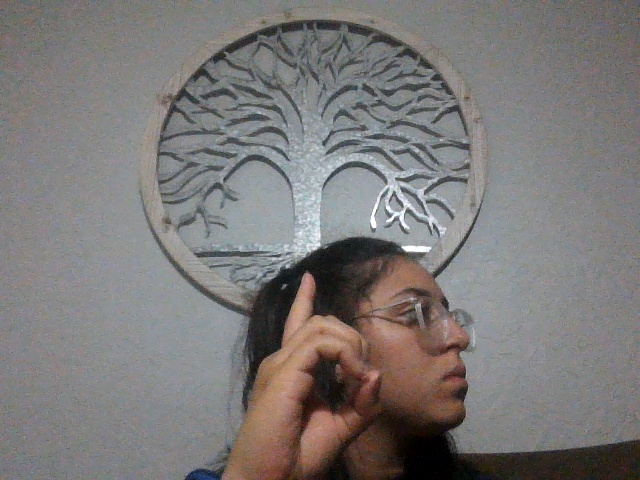D: (213, 255, 383, 480)
